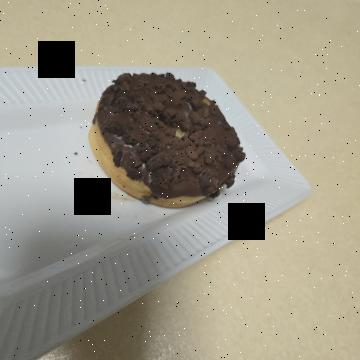doughnut: (61, 102, 221, 280)
